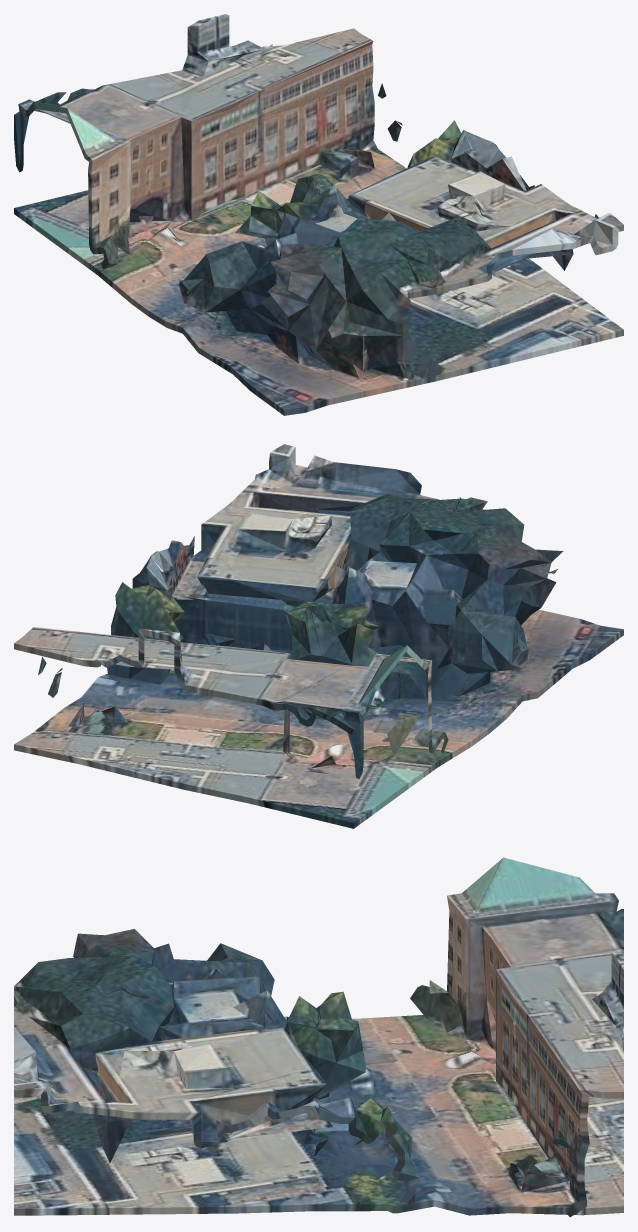
Rendered from chunk_2_-5.glb.
3 renders of one model, top to bottom at view 1: azimuth 30°, elevation 25°; view 2: azimuth 150°, elevation 25°; view 3: azimuth 270°, elevation 25°, orthographic. The views are drawn at different scales.
Visible parts, largest first — view 1: hero-chunk; view 2: hero-chunk; view 3: hero-chunk.
Part boxes in pixels (bbox=[...]): hero-chunk: bbox=[14, 14, 623, 415]; hero-chunk: bbox=[14, 444, 623, 828]; hero-chunk: bbox=[14, 857, 623, 1217].
Size of the model in its own units: 55.42 by 24.44 by 76.32.
Materials: 2 (2 with a texture image).
